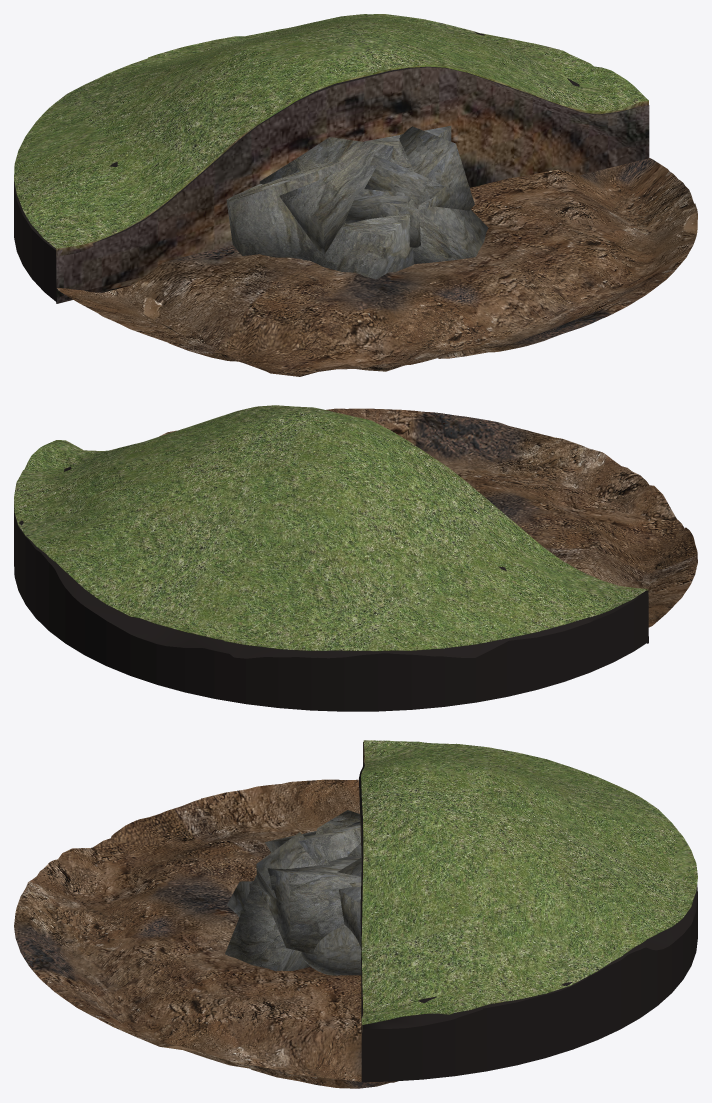
The model's file is 04_Model_komp.glb.
3 views of the same model, one above another, from view 1: azimuth 30°, elevation 25°; view 2: azimuth 150°, elevation 25°; view 3: azimuth 270°, elevation 25° (orthographic).
Visible parts, largest first — view 1: Plane, Cube.006, Cube.005, Cube.020, Cube.025, Cube.023, Cube.022, Cube.007, Cube.008, Cube.009, Cube.021; view 2: Cube.006, Cube.005, Plane; view 3: Cube.006, Plane, Cube.005, Cube.007, Cube.022, Cube.024, Cube.020, Cube.008, Cube.012, Cube.013, Cube.025.
Part boxes in pixels (x1,y1,x2,y2): Plane: (57, 158, 697, 376); Cube.006: (14, 14, 648, 255); Cube.005: (14, 32, 649, 303); Cube.020: (259, 137, 393, 254); Cube.025: (226, 162, 341, 260); Cube.023: (310, 213, 414, 279); Cube.022: (406, 199, 488, 263); Cube.007: (399, 126, 474, 210); Cube.008: (364, 154, 444, 205); Cube.009: (345, 189, 408, 224); Cube.021: (366, 196, 436, 247); Cube.006: (14, 405, 648, 651); Cube.005: (14, 466, 648, 711); Plane: (159, 408, 697, 627); Cube.006: (361, 740, 697, 1032); Plane: (14, 779, 398, 1088); Cube.005: (359, 742, 697, 1082); Cube.007: (266, 868, 361, 954); Cube.022: (225, 875, 309, 971); Cube.024: (301, 925, 361, 975); Cube.020: (264, 821, 360, 863); Cube.008: (256, 832, 329, 898); Cube.012: (337, 858, 361, 947); Cube.013: (270, 856, 361, 889); Cube.025: (315, 810, 360, 835).
Bounding box in the file's own units: 17.22 × 5.44 × 17.22.
Materials: 8 (6 with a texture image).
